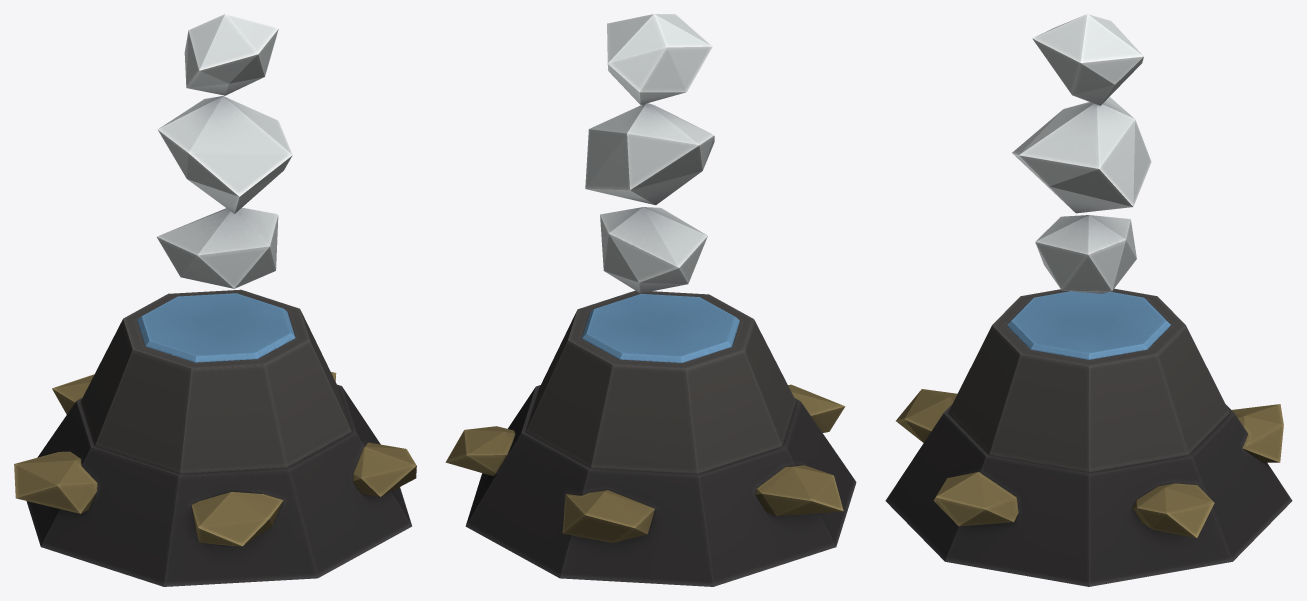
The model's file is obj_geyser.glb.
3 renders of one model, left to right at view 1: azimuth 30°, elevation 25°; view 2: azimuth 150°, elevation 25°; view 3: azimuth 270°, elevation 25°, orthographic.
Parts seen in each view (by area): view 1: obj_geyser; view 2: obj_geyser; view 3: obj_geyser.
Boxes of the visible parts, box(x1,y1,x2,y2) form: obj_geyser: box(14, 14, 416, 586); obj_geyser: box(445, 14, 856, 586); obj_geyser: box(885, 14, 1292, 586).
Bounding box in the file's own units: 0.8789 × 1.12 × 0.84.
Materials: 1 (1 with a texture image).
